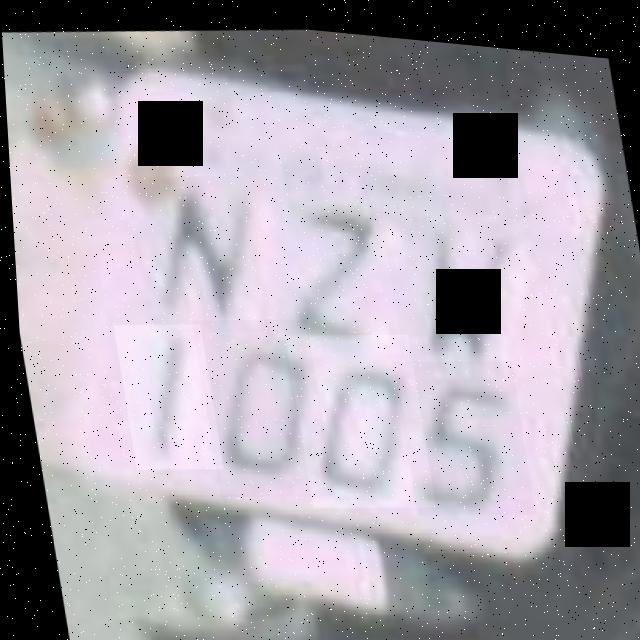0: (281, 317, 430, 511), (187, 304, 330, 501)
1: (109, 313, 218, 474)
5: (388, 341, 531, 517)
N: (122, 162, 266, 339)
Z: (247, 172, 397, 348)
